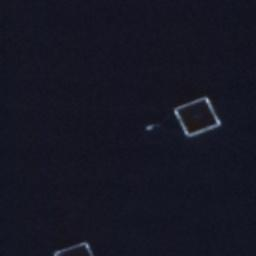square_solid: (170, 93, 225, 141), (50, 238, 96, 256)
